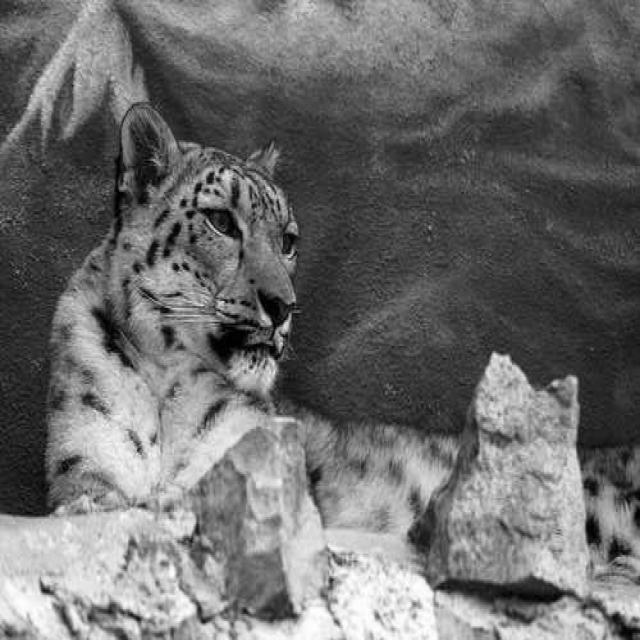Leopard: (42, 99, 639, 588)
